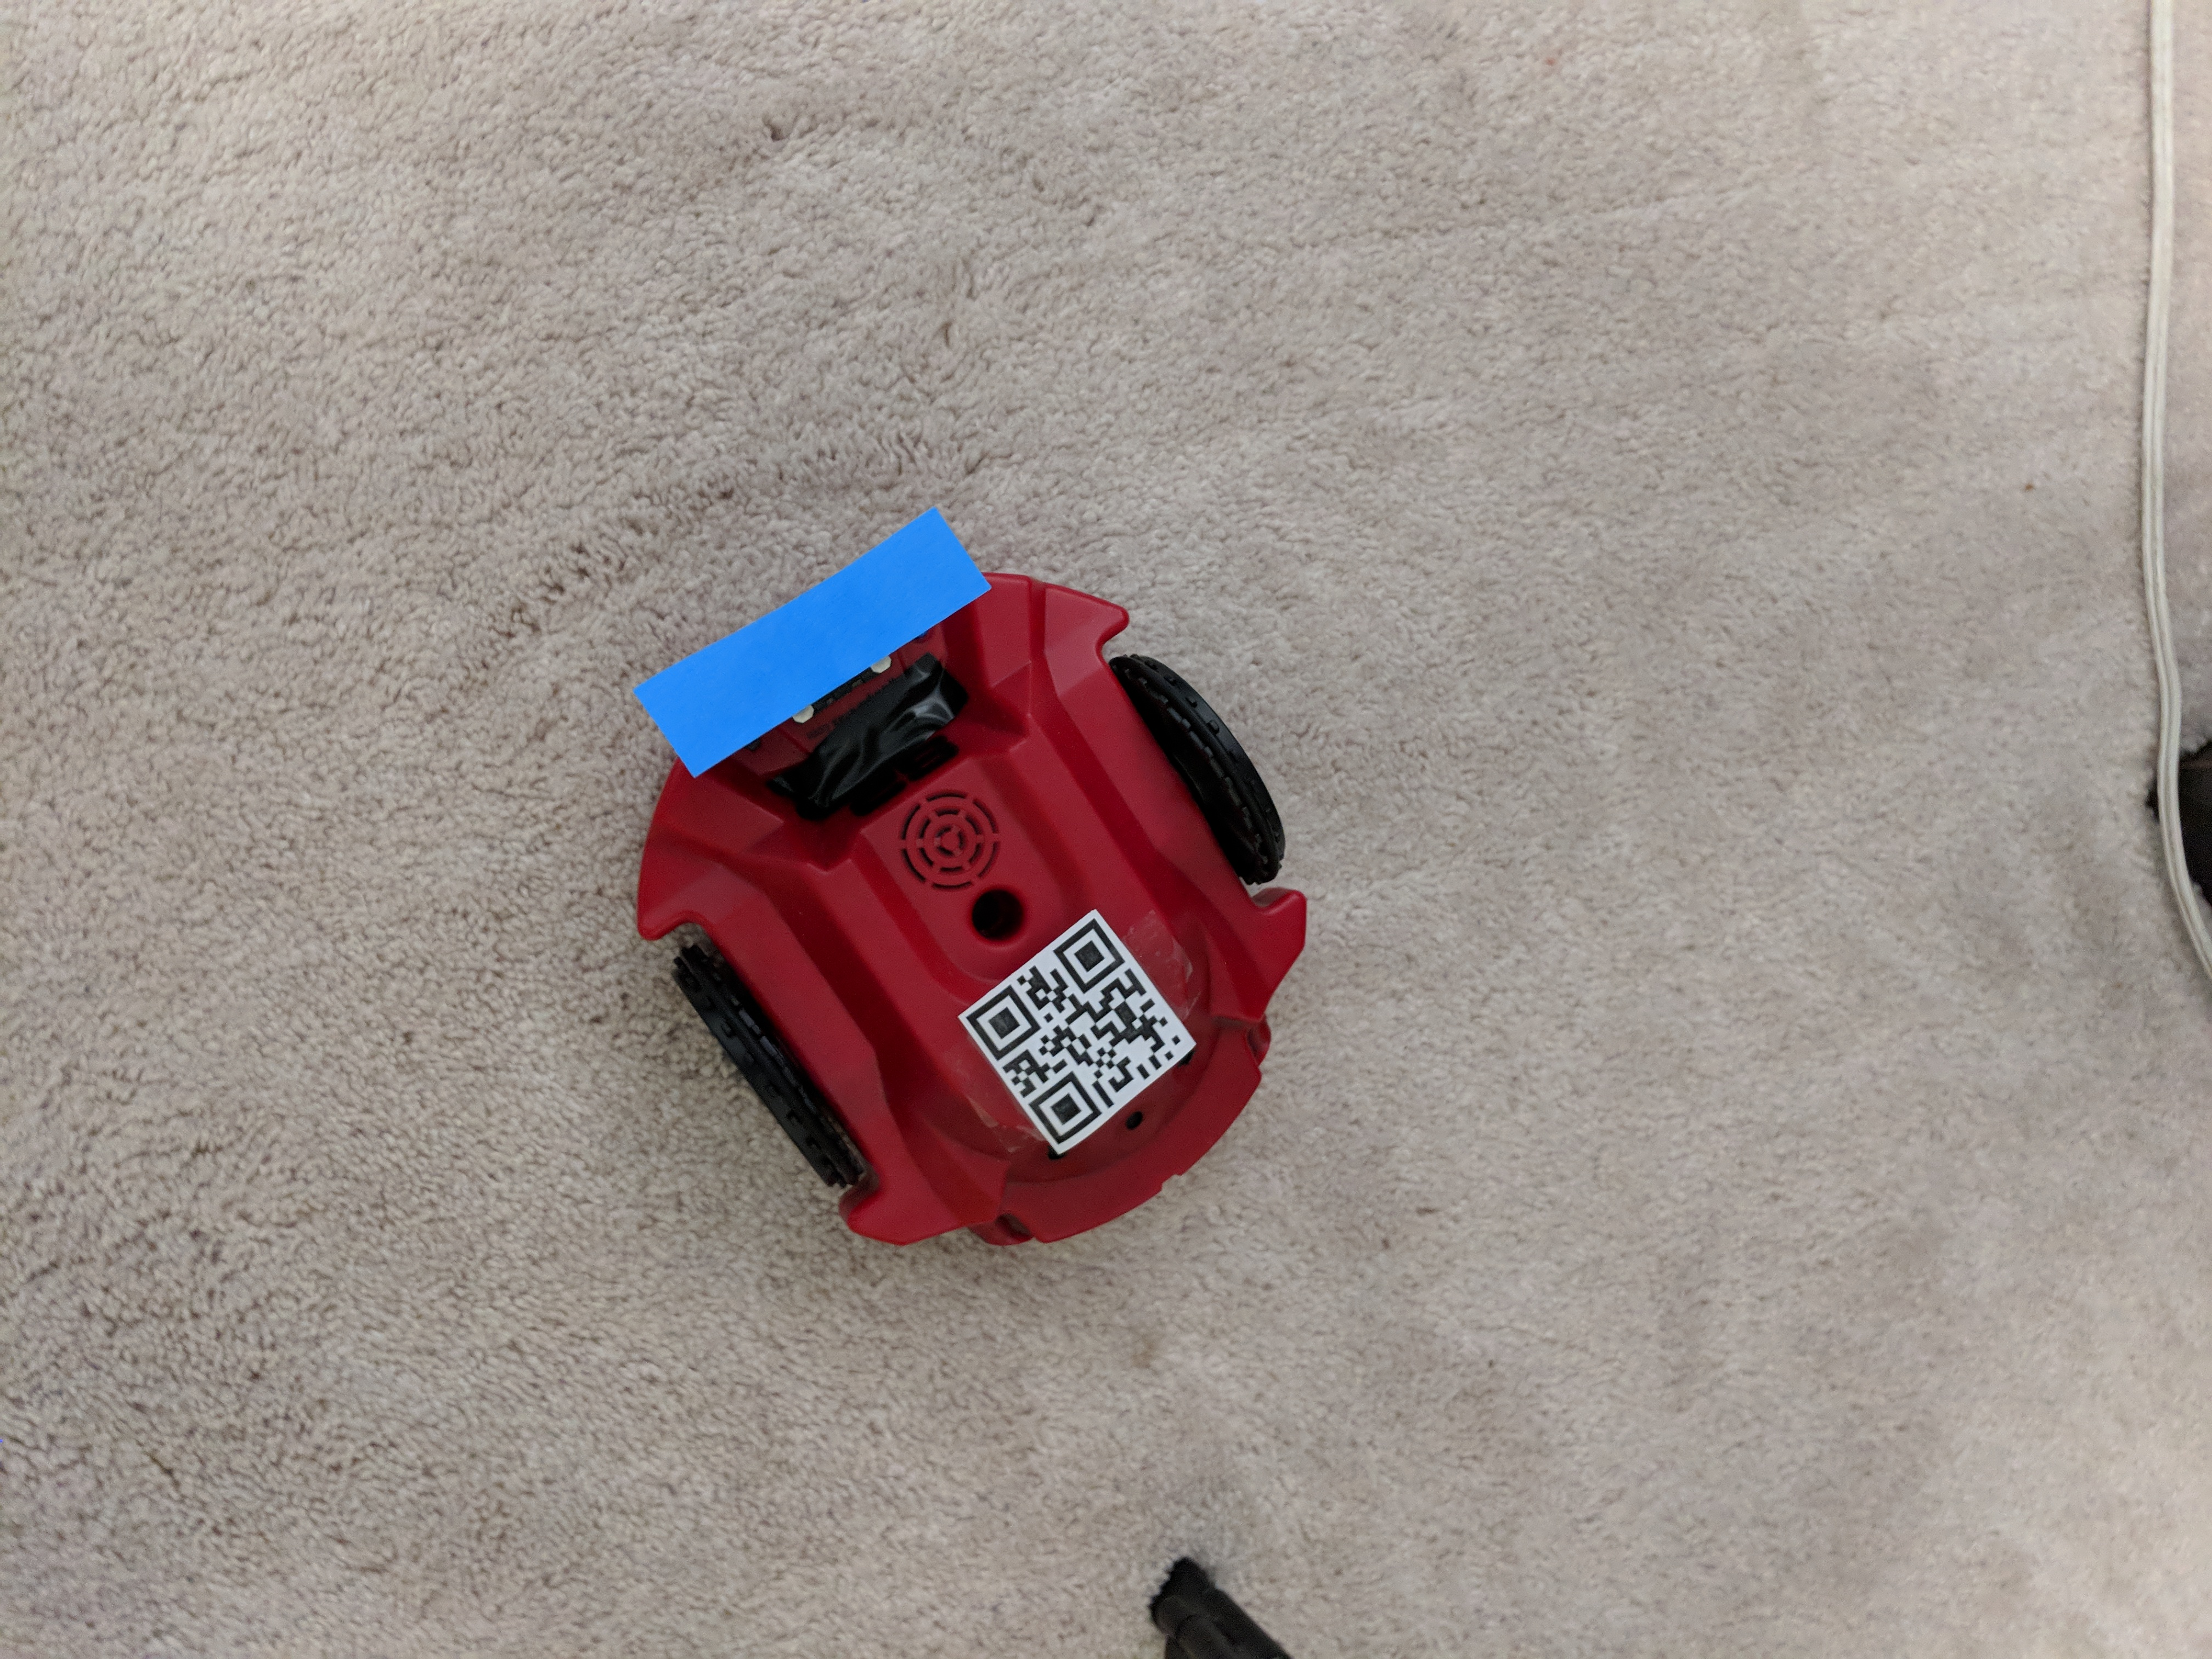chassis: (636, 490, 1312, 1277)
qr: (970, 904, 1193, 1157)
